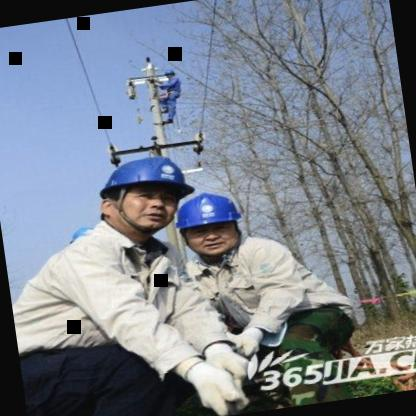helmet: (82, 142, 206, 245), (162, 183, 254, 266)
